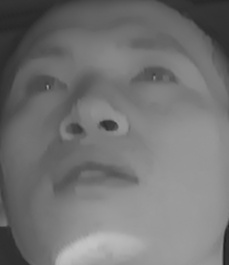eye: (126, 57, 181, 92), (20, 68, 69, 96)
mouth: (49, 154, 143, 203)
